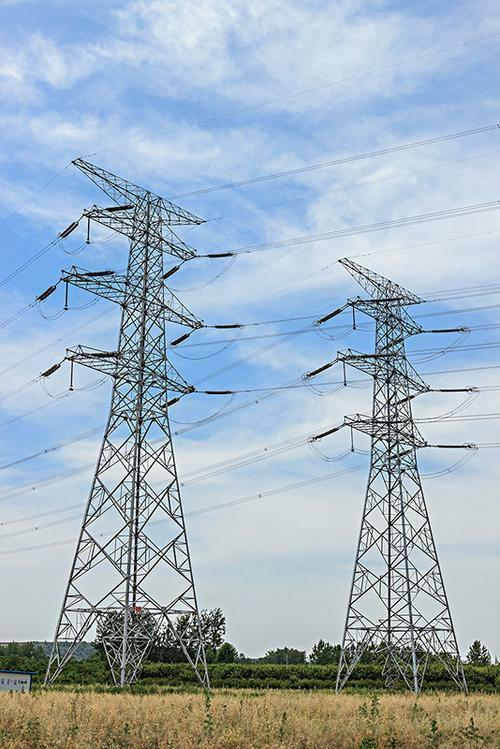power_tower: (40, 157, 219, 690), (304, 241, 480, 693)
